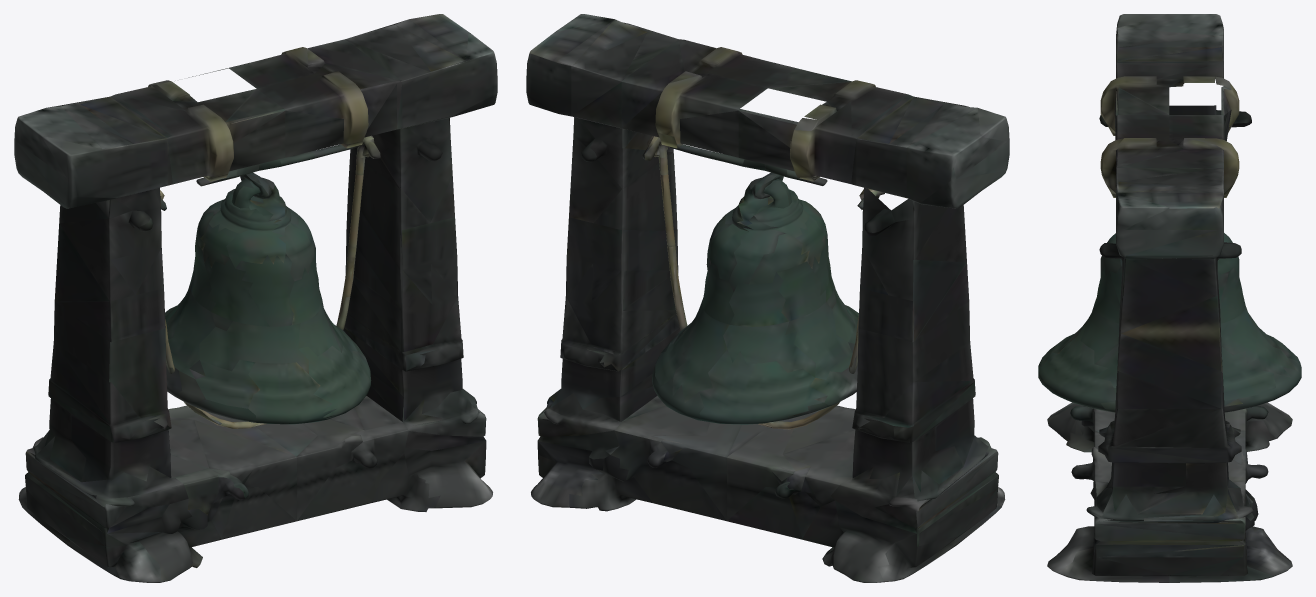
The model's file is briarhold-wave-bell-256.glb.
3 renders of one model, left to right at view 1: azimuth 30°, elevation 25°; view 2: azimuth 150°, elevation 25°; view 3: azimuth 270°, elevation 25°, orthographic. The views are drawn at different scales.
Parts seen in each view (by area): view 1: briarhold-wave-bell; view 2: briarhold-wave-bell; view 3: briarhold-wave-bell.
Part boxes in pixels (x1=…): briarhold-wave-bell: x1=14, y1=14, x2=497, y2=582; briarhold-wave-bell: x1=526, y1=14, x2=1009, y2=582; briarhold-wave-bell: x1=1038, y1=14, x2=1301, y2=582.
Size of the model in its own units: 2.8 by 2.6 by 1.6.
1 material, 1 textured.
